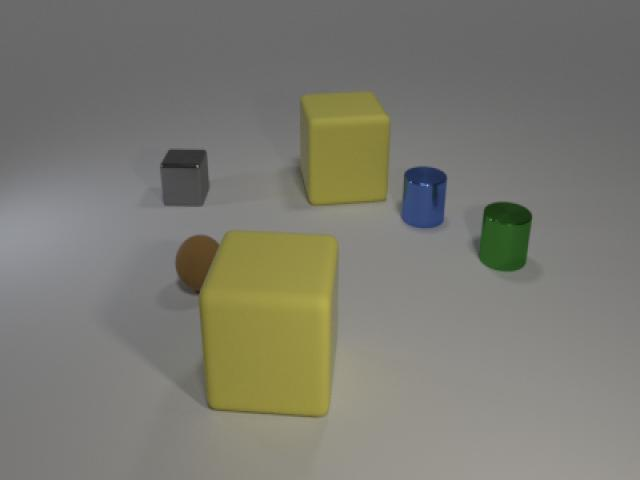cylinder: (474, 194, 537, 277), (398, 157, 449, 236)
round ball: (173, 230, 224, 295)
